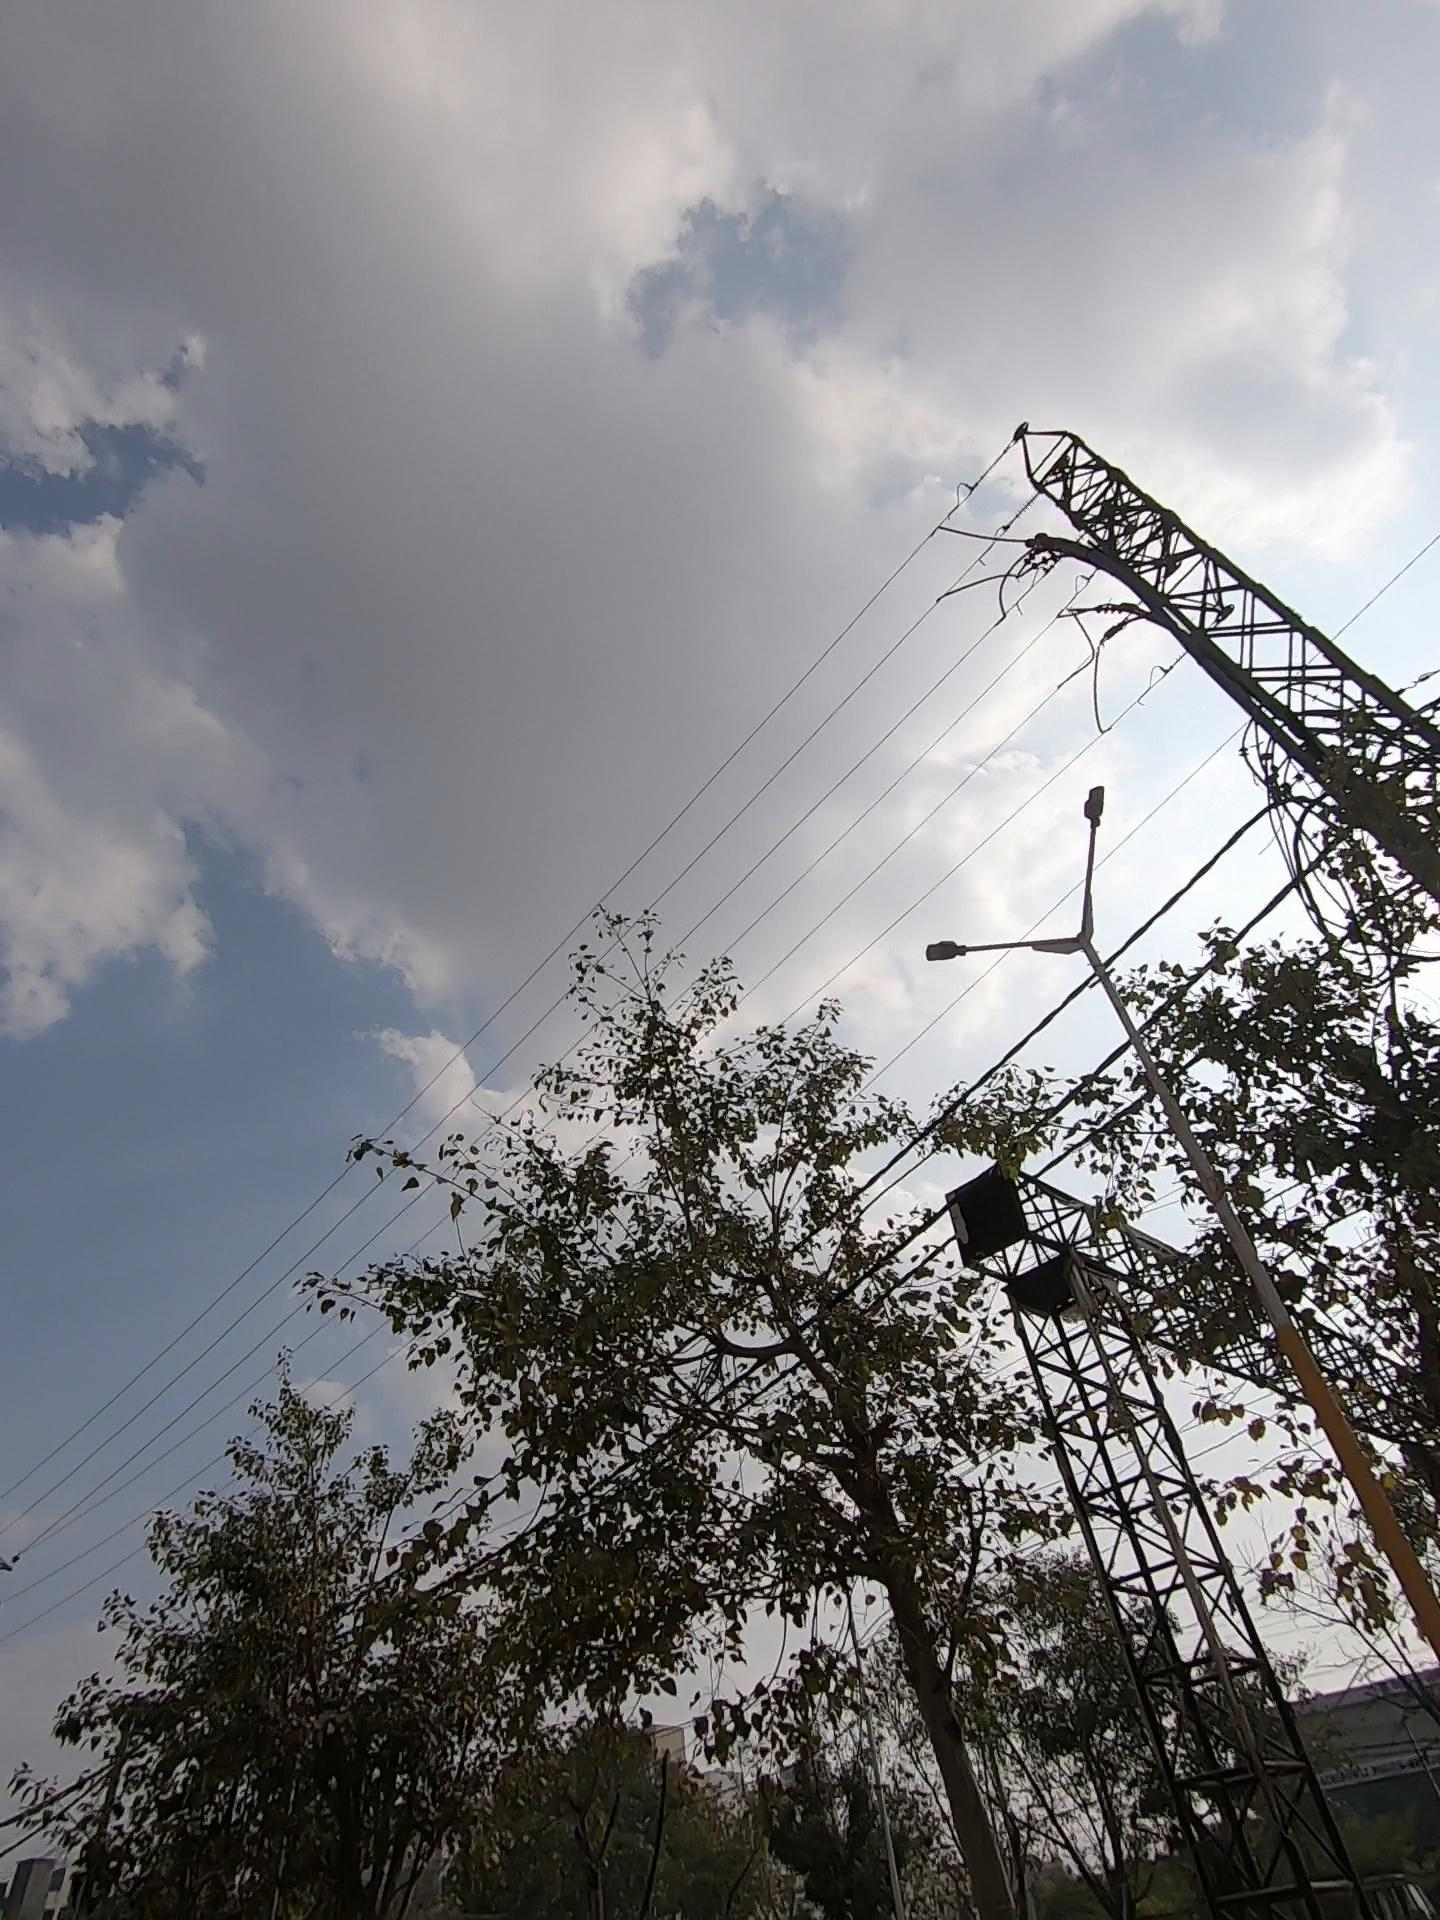off: (889, 691, 1199, 972)
